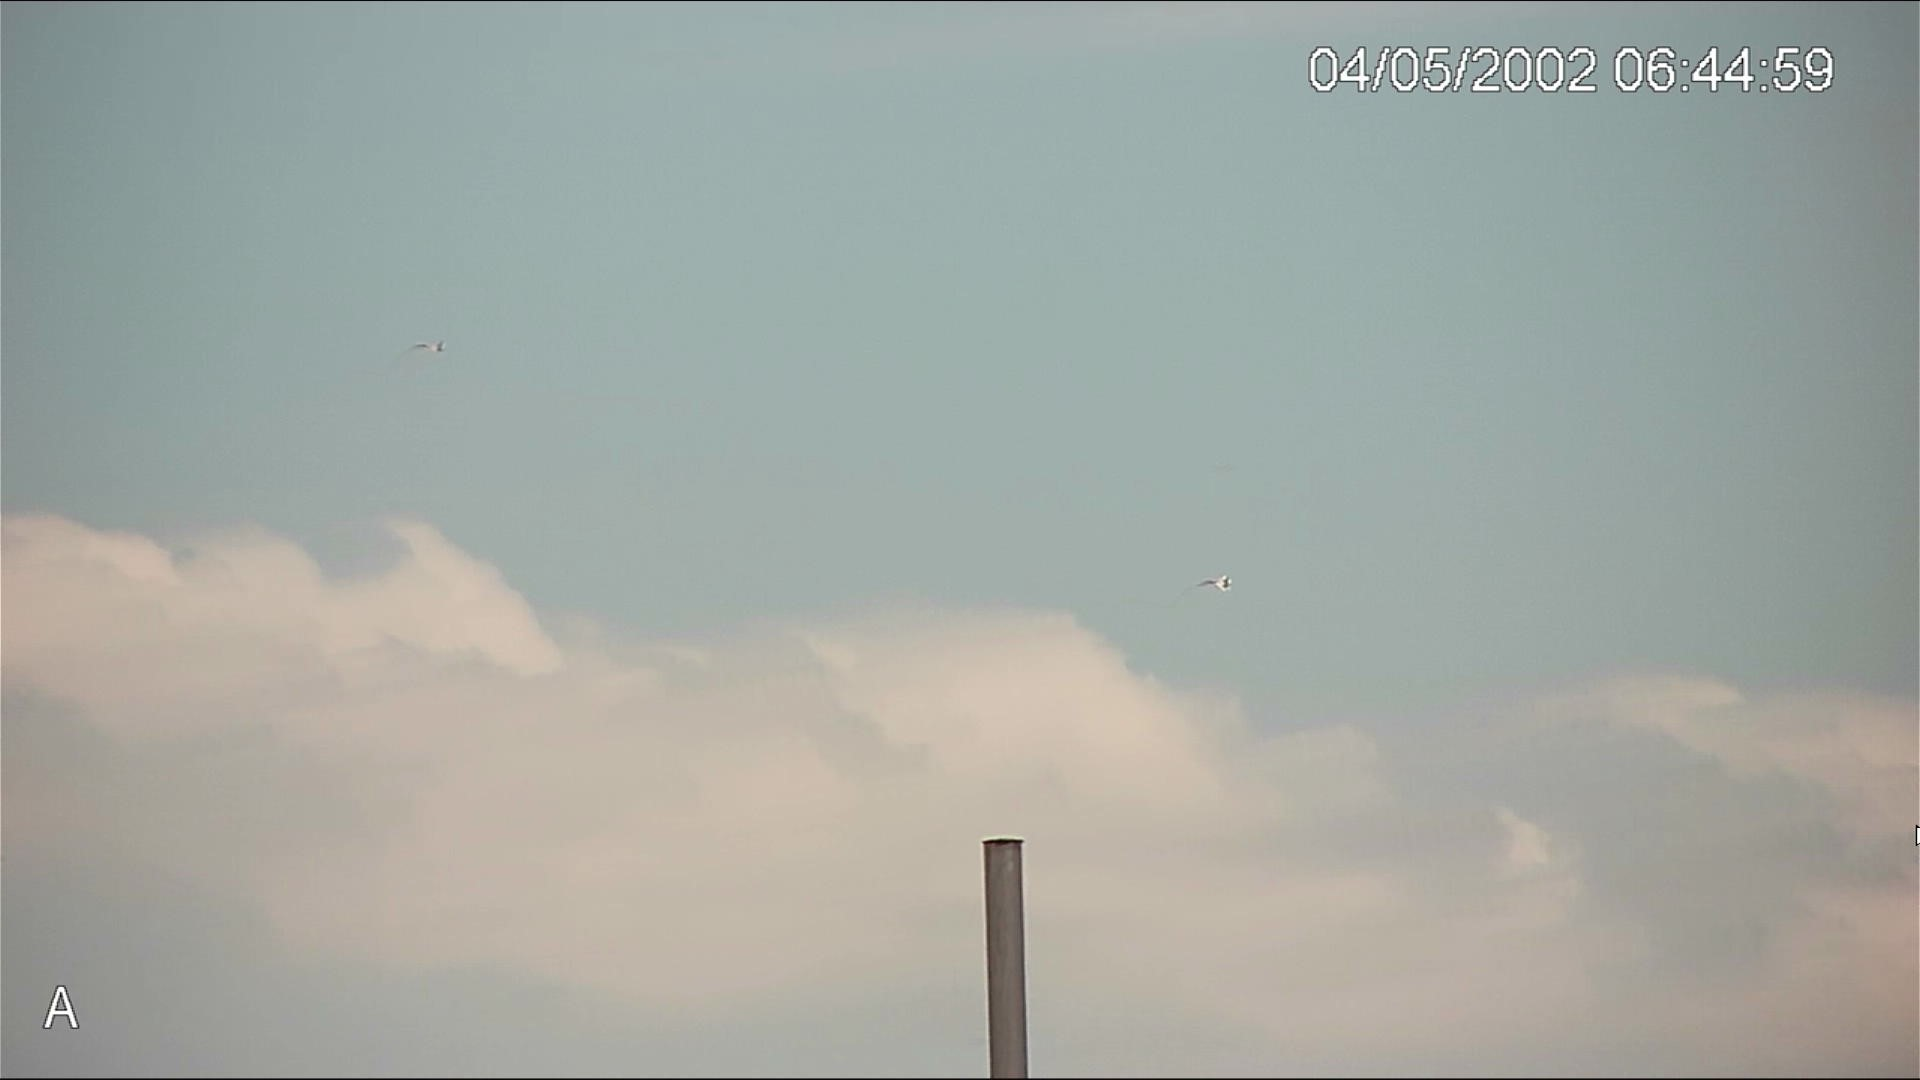SU_30: (407, 335, 450, 355), (1200, 572, 1234, 593)
